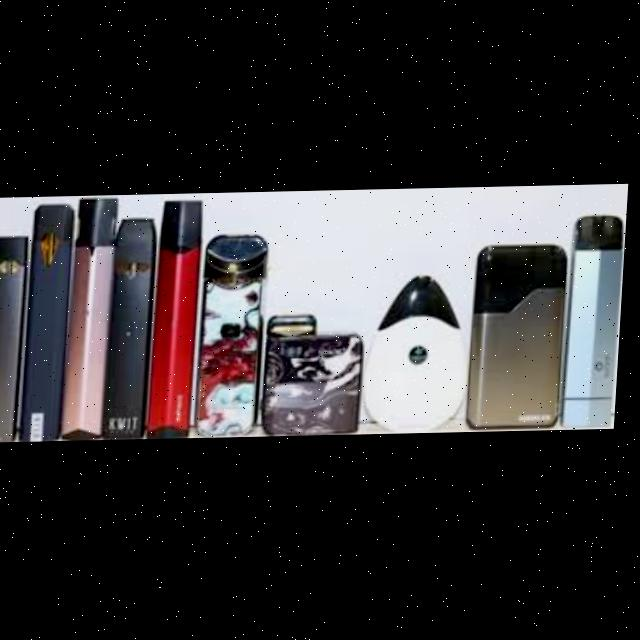vape: (470, 246, 574, 433), (369, 275, 479, 435), (199, 233, 273, 438), (67, 197, 121, 441), (265, 313, 370, 437), (153, 201, 206, 440), (27, 204, 79, 441), (108, 215, 161, 440), (567, 216, 627, 402), (0, 236, 34, 443)
